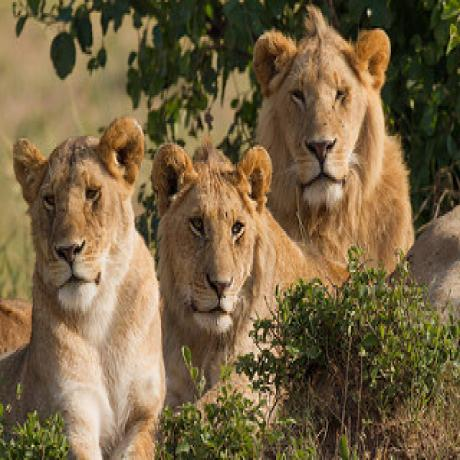Lion: (0, 117, 162, 460), (255, 0, 410, 275), (150, 132, 314, 391)
